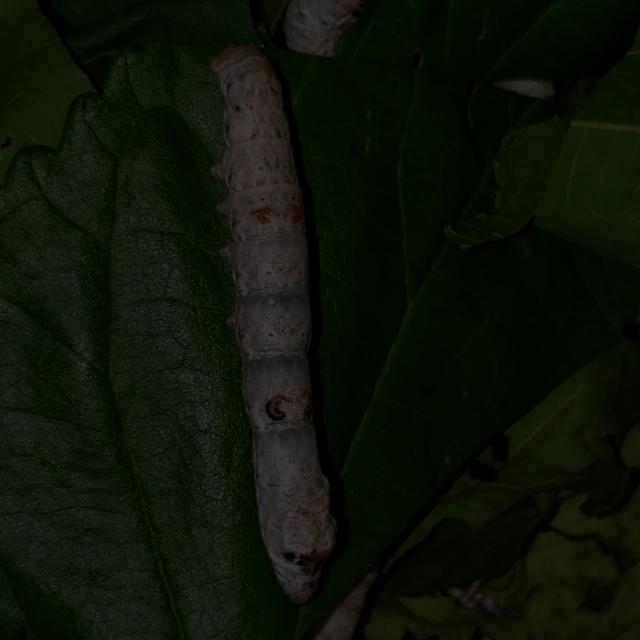Healthy: (189, 36, 398, 606)
